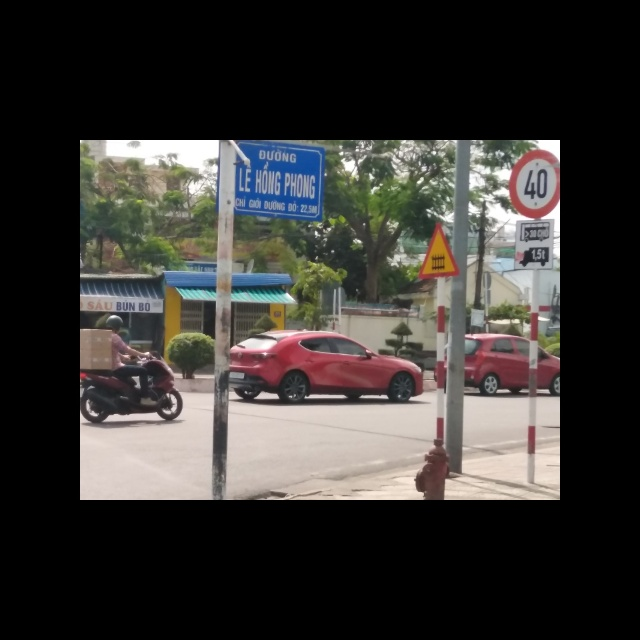Giao nhau với đường sắt có rào chắn: (418, 217, 463, 279)
Tốc độ tối đa cho phép 40km/h: (508, 149, 561, 221)
